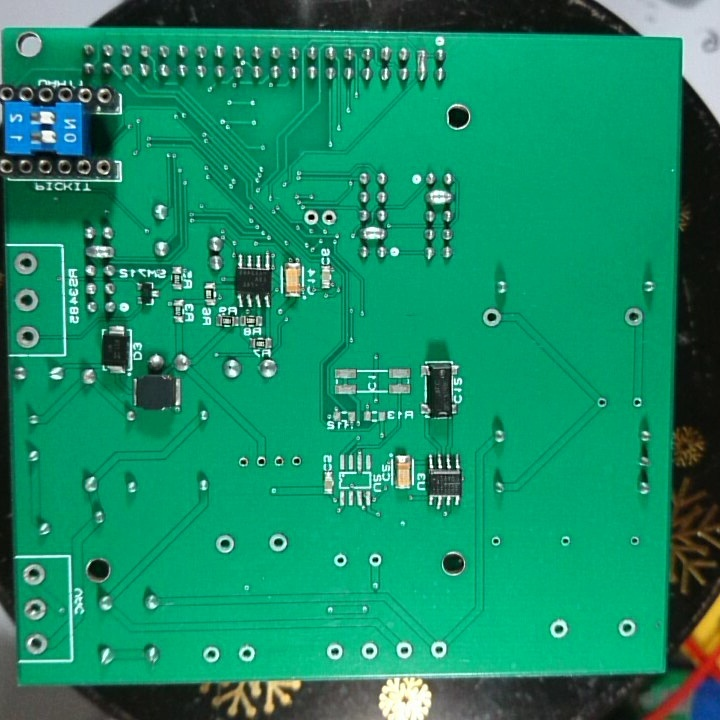F: (13, 322, 43, 351), (10, 249, 40, 278), (19, 561, 48, 588), (21, 596, 49, 623), (13, 288, 41, 315), (24, 631, 51, 655), (267, 529, 290, 557), (479, 306, 505, 330), (547, 617, 571, 643), (200, 643, 224, 667), (613, 618, 639, 640), (213, 533, 236, 556), (236, 641, 258, 665), (427, 640, 452, 661), (393, 639, 416, 661), (623, 306, 645, 328), (359, 641, 381, 663), (324, 641, 346, 662), (331, 552, 353, 572), (300, 208, 321, 227), (364, 551, 385, 570), (320, 206, 338, 226), (253, 452, 269, 472), (236, 454, 253, 471), (629, 394, 644, 412), (273, 452, 286, 472), (627, 533, 642, 550), (289, 453, 302, 472), (594, 395, 610, 410), (559, 533, 574, 549), (490, 532, 504, 549)
P: (414, 46, 430, 88), (83, 242, 117, 260), (356, 225, 390, 242), (424, 187, 454, 206)
